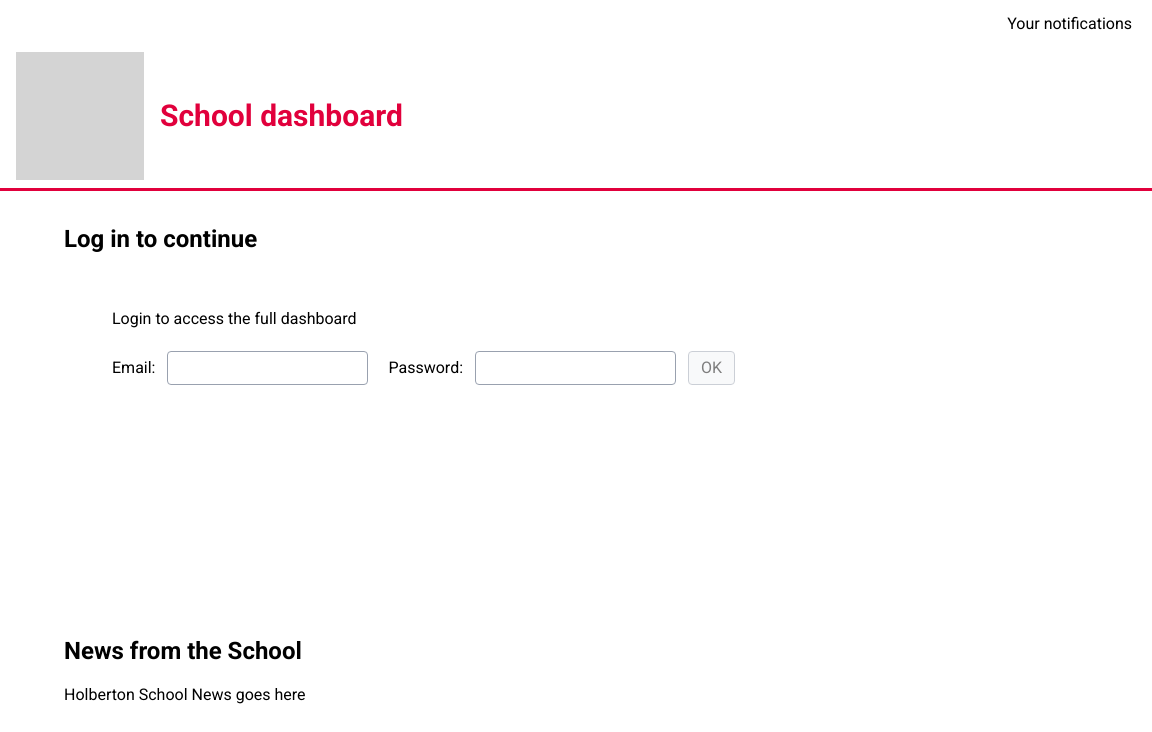
Scenario: App component › logs out when control and h are pressed
Type "user@example.com" into the field labelled "Email:". click: [268, 368]
box: [168,351,368,385]
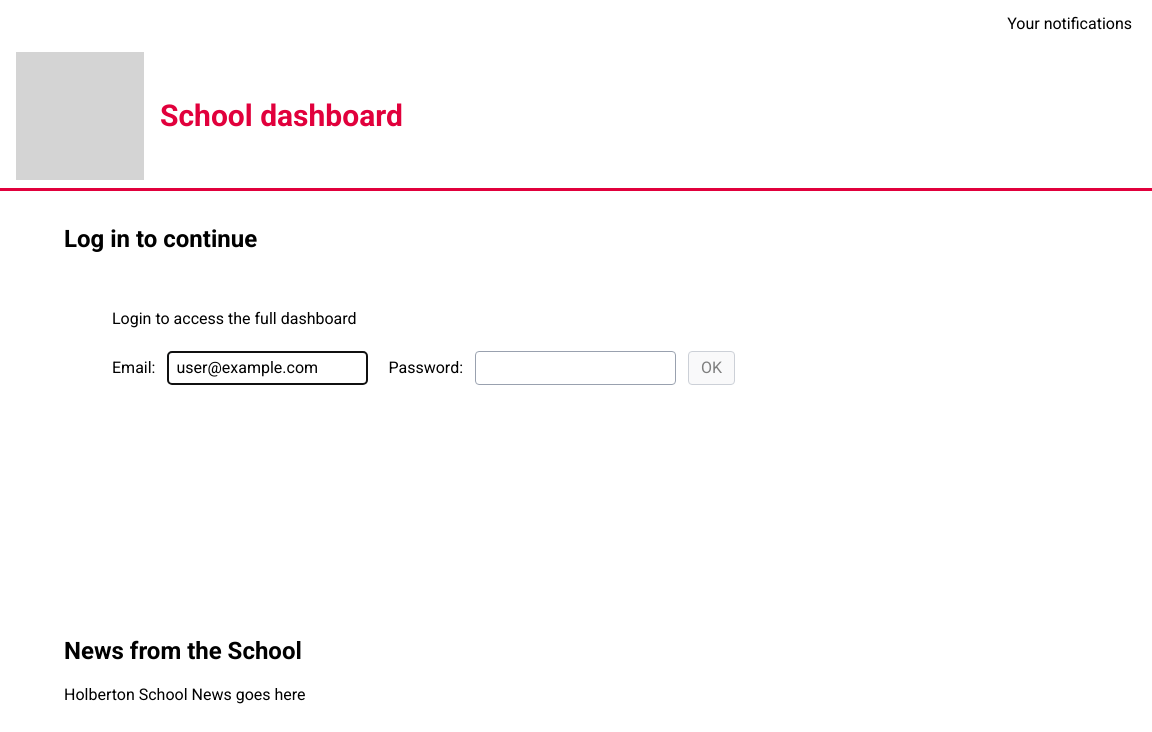
Type "password123" into the password field labelled "Password:". click: [576, 368]
box: [475,351,676,385]
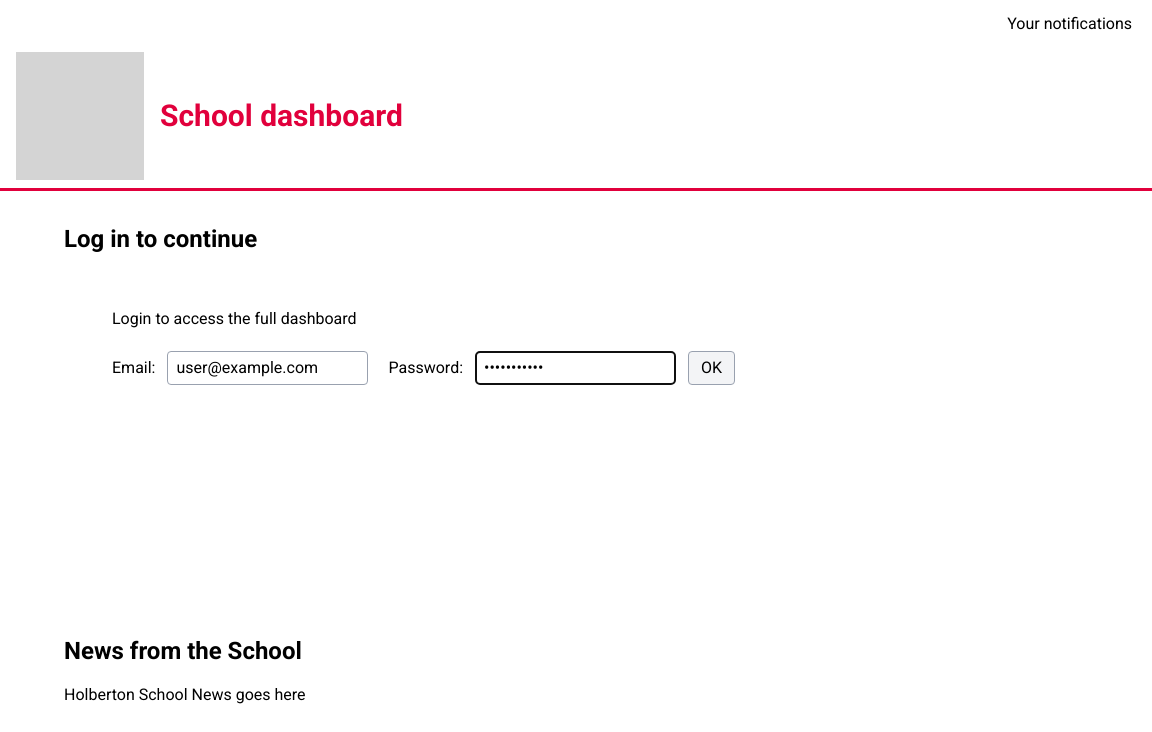
expect the button showing "OK" is enabled: met
Click the button showing "OK". click: [712, 368]
box: [688,351,735,385]
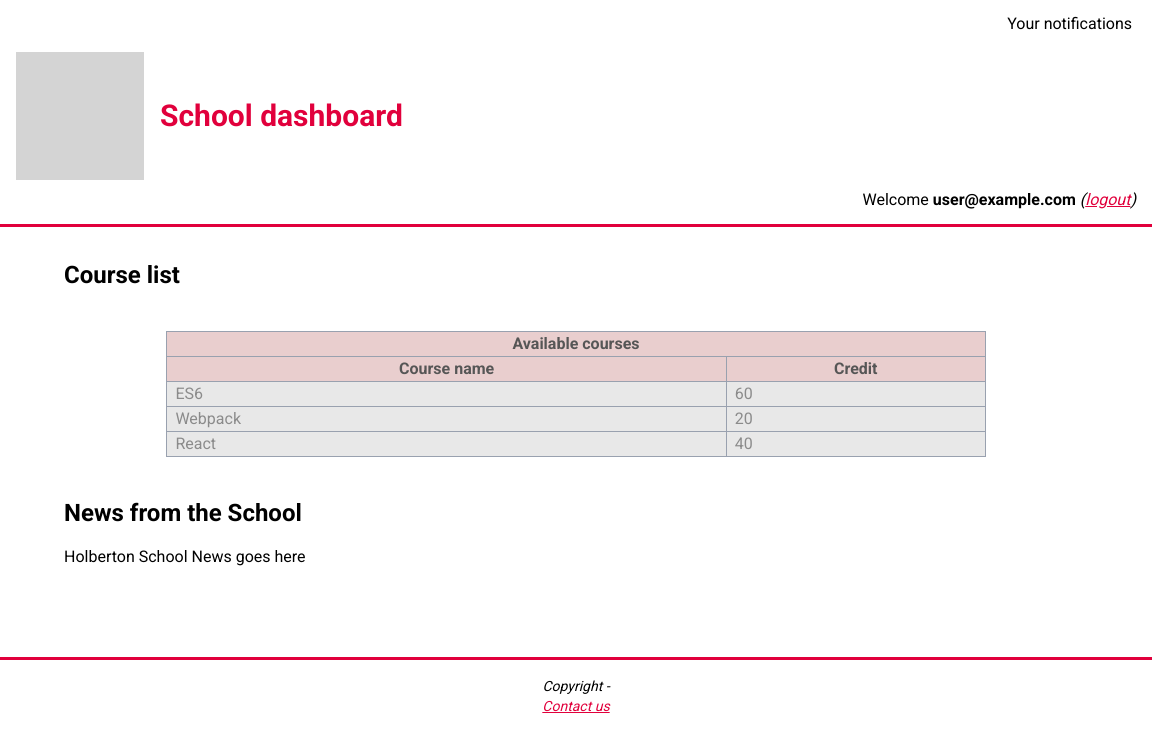
expect the table is shown: met, box [166,331,986,457]
Press h
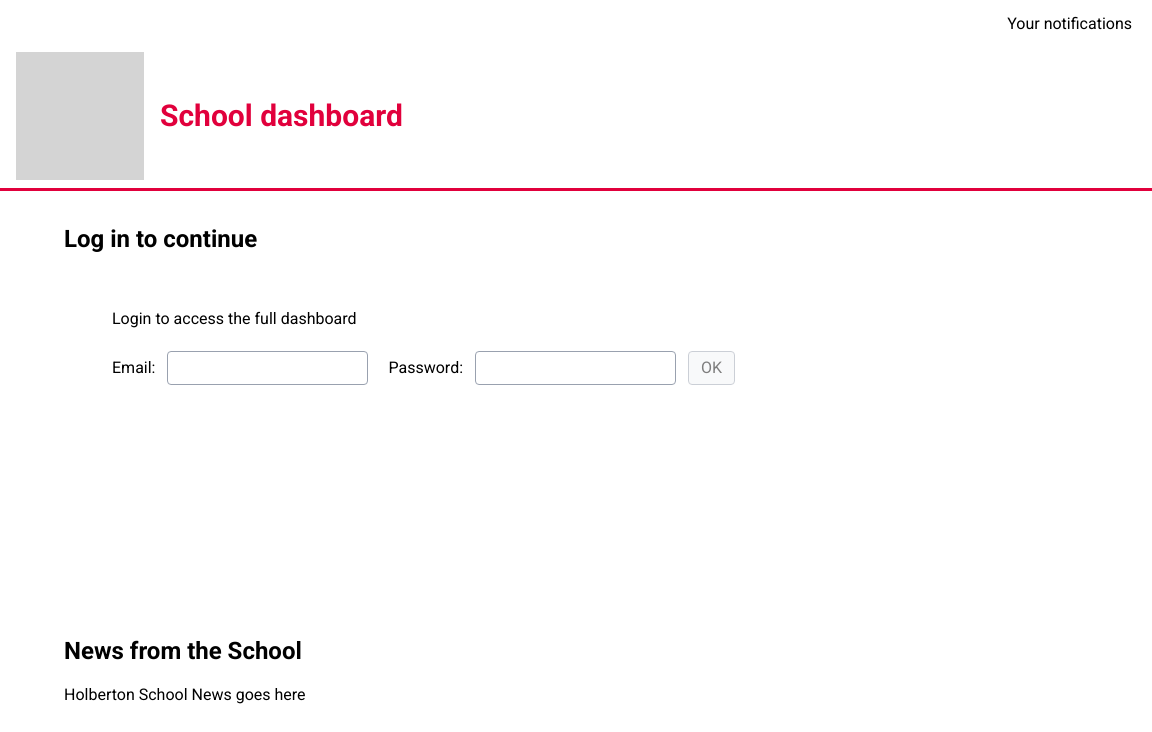
expect the text "Login to access the full dashboard" is shown: met, box [112,309,357,328]
